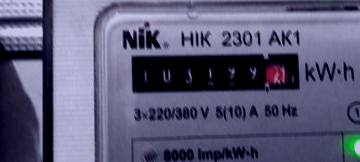0: (158, 66, 169, 85), (135, 67, 144, 85)
1: (202, 63, 211, 81)
3: (180, 66, 190, 86)
6: (268, 71, 278, 85)
9: (223, 62, 233, 82), (245, 64, 255, 82)
screen: (121, 46, 303, 100)
